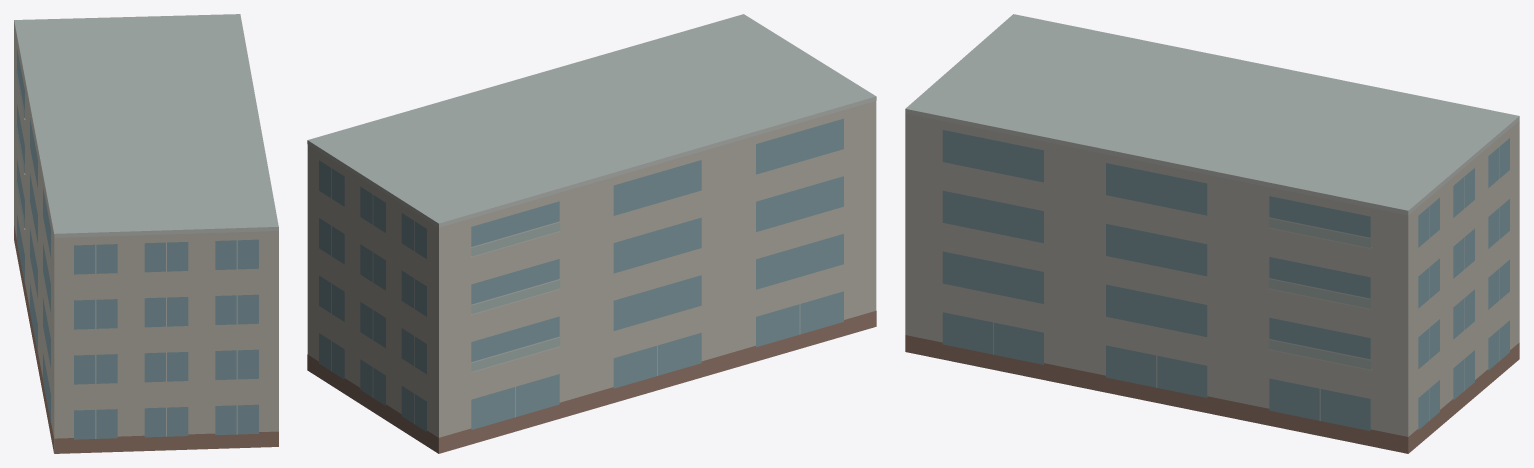
The model's file is survey-upis-33033326.glb.
The picture shows the model from 3 angles, left to right: view 1: azimuth 30°, elevation 25°; view 2: azimuth 150°, elevation 25°; view 3: azimuth 270°, elevation 25°; orthographic projection. The views are drawn at different scales.
Parts seen in each view (by area): view 1: survey-upis-33033326.tmp; view 2: survey-upis-33033326.tmp; view 3: survey-upis-33033326.tmp.
Part boxes in pixels (box(x1,y1,x2,y2)): survey-upis-33033326.tmp: box(14, 14, 278, 453); survey-upis-33033326.tmp: box(307, 14, 876, 453); survey-upis-33033326.tmp: box(905, 14, 1519, 453).
Size of the model in its own units: 22.92 by 13.2 by 30.24.
